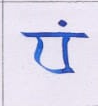anusvara: (59, 20, 67, 26)
